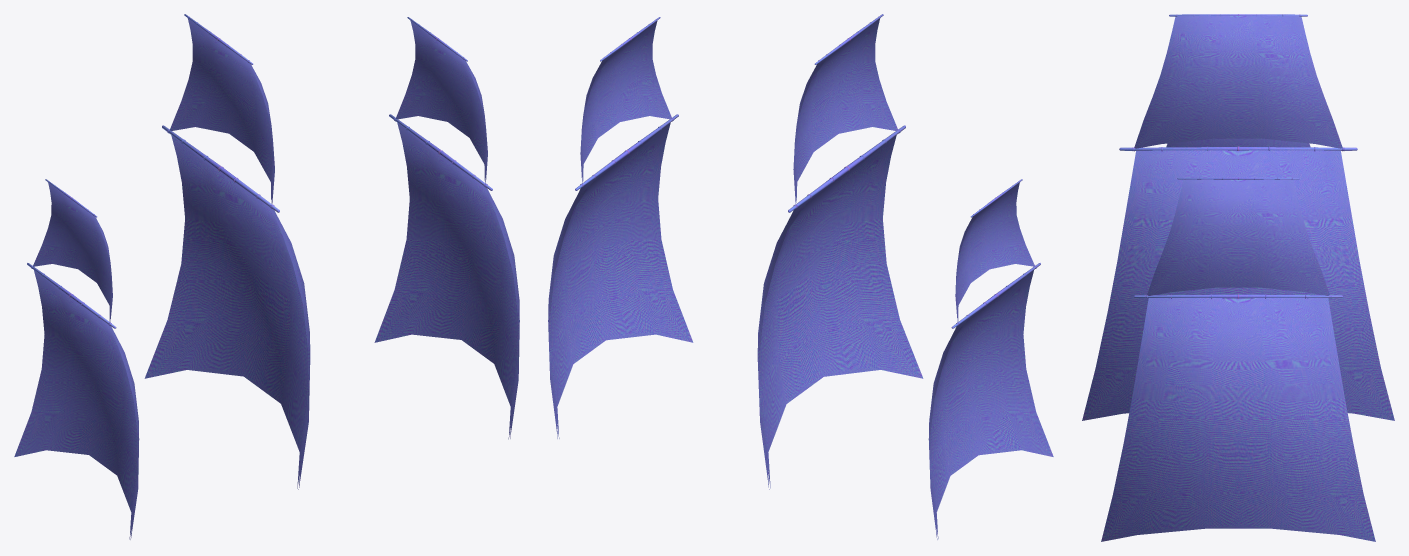
The model's file is statek_lod_zagle_lvl_02.fbx.
The picture shows the model from 3 angles, left to right: view 1: azimuth 30°, elevation 25°; view 2: azimuth 150°, elevation 25°; view 3: azimuth 270°, elevation 25°; orthographic projection.
Parts seen in each view (by area): view 1: statek_lod_zagle_lvl_02; view 2: statek_lod_zagle_lvl_02; view 3: statek_lod_zagle_lvl_02.
Part boxes in pixels (box(x1,y1,x2,y2)): statek_lod_zagle_lvl_02: box(14, 14, 519, 539); statek_lod_zagle_lvl_02: box(548, 14, 1053, 539); statek_lod_zagle_lvl_02: box(1082, 14, 1394, 541).
Bounding box in the file's own units: 4701 × 4566 × 2982.
1 material, 1 textured.
